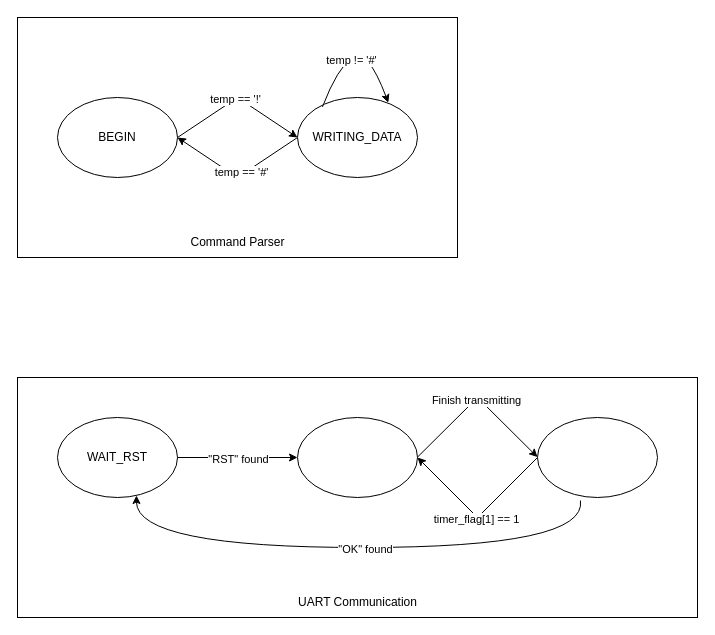
The diagram is 715 pixels wide and 635 high, and some of its shapes have lost their labels. Each missing label, with the centre of its shape:
TRANSMIT: (357,457)
WAIT_OK: (597,457)
